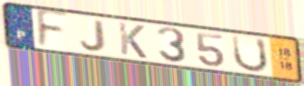3: (156, 26, 188, 65)
5: (194, 30, 226, 68)
F: (35, 8, 72, 51)
J: (79, 19, 107, 53)
K: (117, 21, 149, 61)
U: (230, 34, 270, 74)
